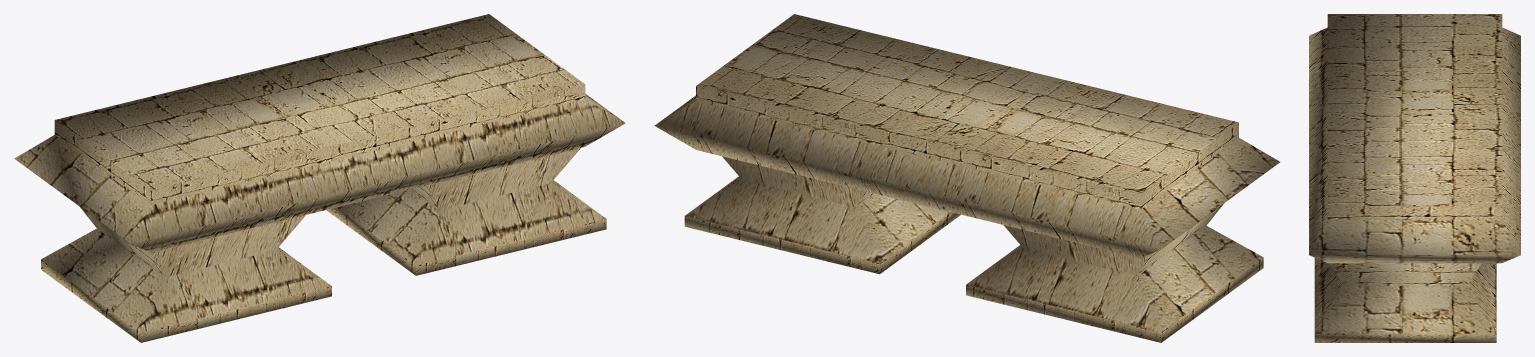
Rendered from Banc.FBX.
3 views of the same model, side by side, from view 1: azimuth 30°, elevation 25°; view 2: azimuth 150°, elevation 25°; view 3: azimuth 270°, elevation 25° (orthographic). The views are drawn at different scales.
Parts seen in each view (by area): view 1: Box001; view 2: Box001; view 3: Box001.
Boxes of the visible parts, bbox=[...] form: Box001: bbox=[14, 14, 625, 342]; Box001: bbox=[654, 14, 1279, 342]; Box001: bbox=[1309, 14, 1520, 342].
Bounding box in the file's own units: 171 × 47.22 × 69.73.
